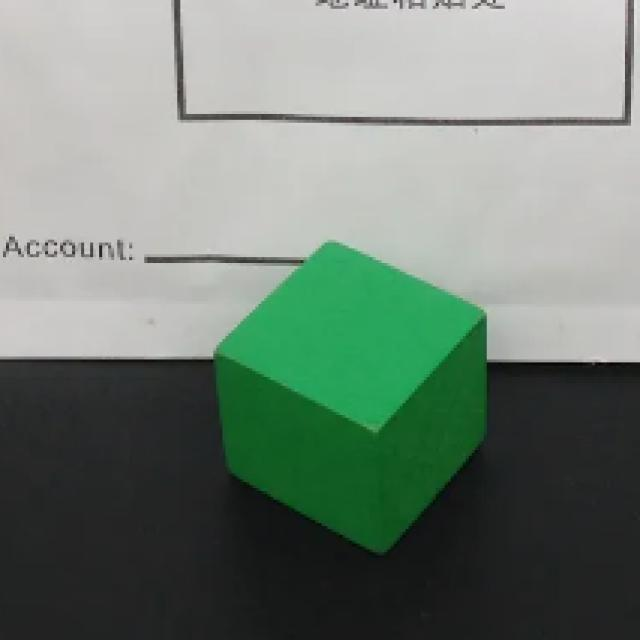green cube: (213, 242, 492, 559)
